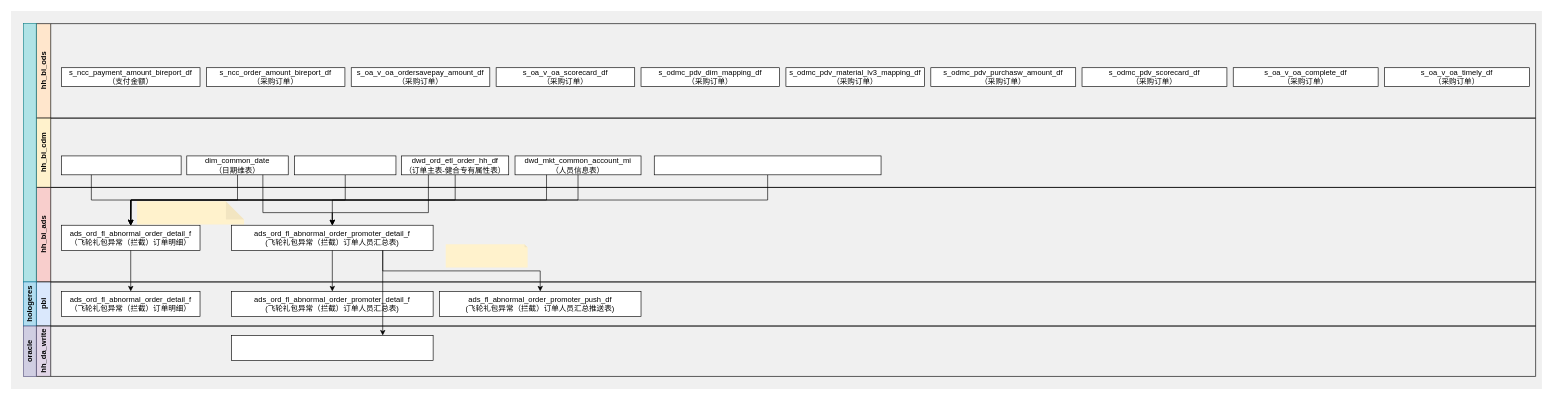
The diagram is 1552 pixels wide and 399 high, and some of its shapes have lost their labels. The shapes that lost their labels are listed below. From the top down, each one's centre as x and y in pixels, then its label:
At point (29, 152): "dataphin".
At point (121, 165): "dwd_ord_sfa_etl_order_refund_f （拦截订单）".
At point (345, 165): "dwd_ord_etl_order_df （订单主表）".
At point (767, 165): "dwd_ord_etl_order_item_df （订单商品项（组合商品）主表 所有订单商品项都会入这个表）".
At point (190, 212): "每月1号定版上一考核月数据".
At point (486, 255): "推送当月发生变动的数据".
At point (332, 348): "ADS_FL_LJ_ORDER_PROMOTER (飞轮礼包异常（拦截）订单人员汇总表)".
